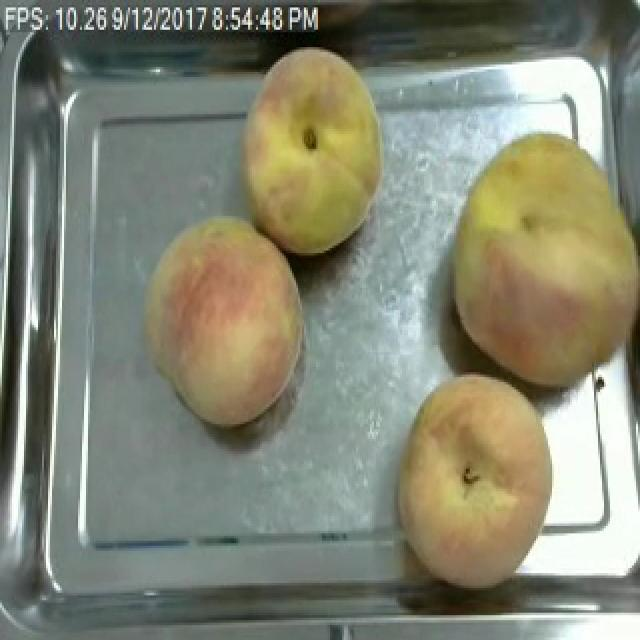Fruit: (436, 116, 640, 402), (384, 364, 566, 602), (134, 208, 314, 434), (230, 40, 396, 265)
